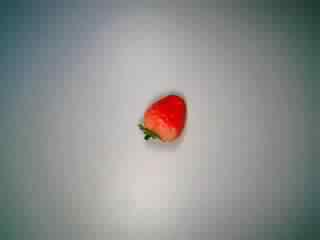strawberry: (131, 87, 193, 151)
